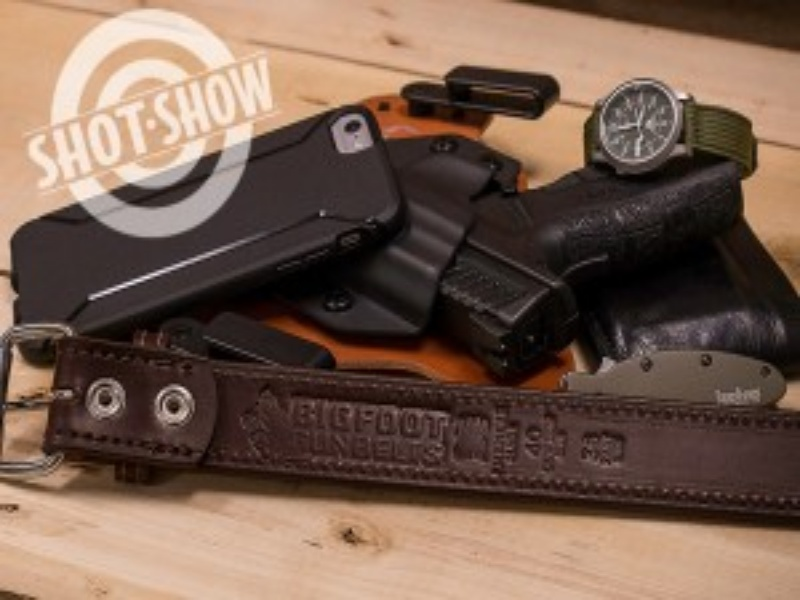gun: (411, 143, 731, 330)
